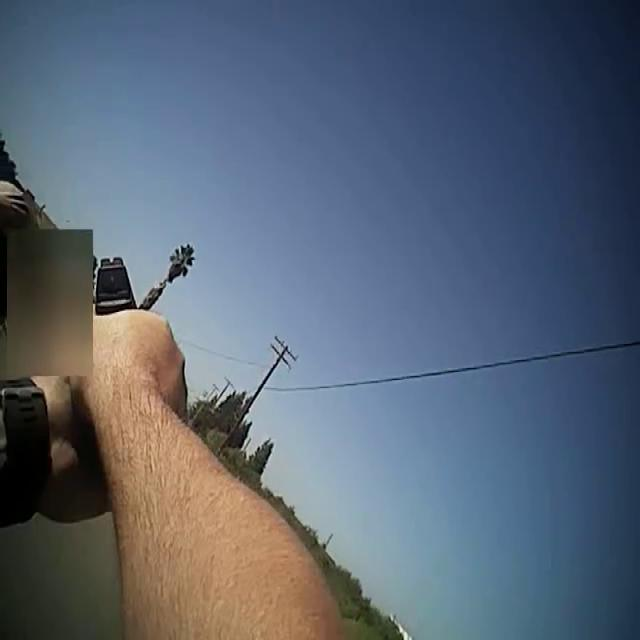gun: (95, 235, 151, 419)
